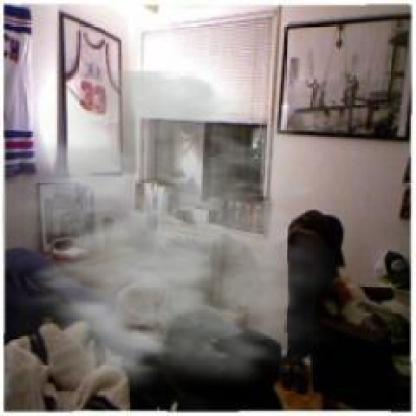Smoke: (2, 70, 352, 408)
